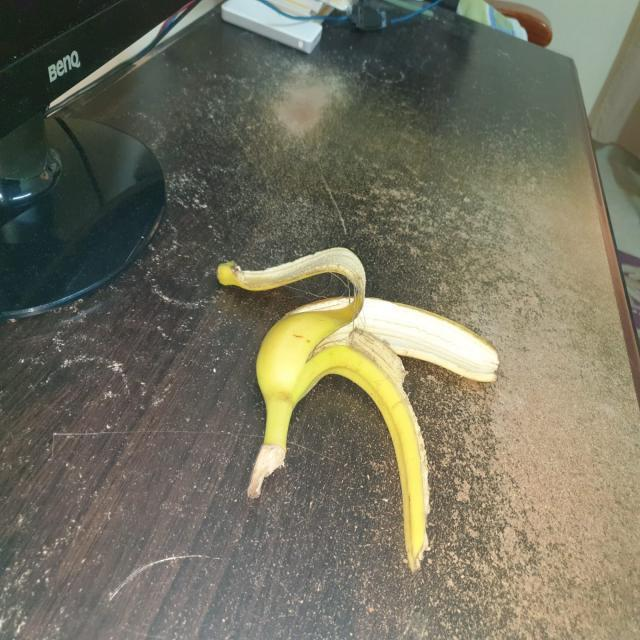banana-peel: (215, 245, 499, 574)
